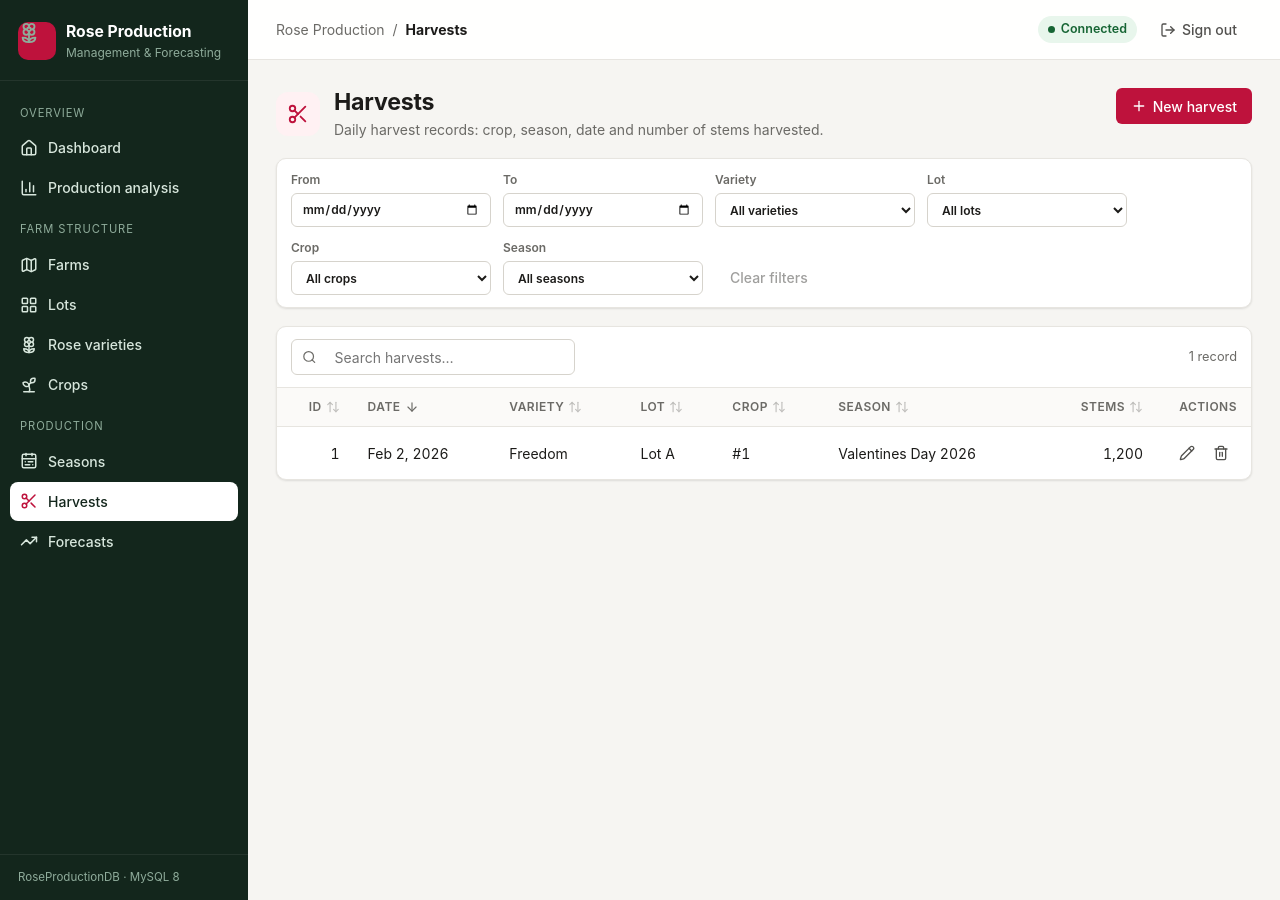
Test case: harvest consistency rules (final audit) › shows the duplicate-day conflict returned by the API (409)
Expected: the text "Valentines Day 2026" is shown, [824,426,1040,479]
Click the button "New harvest" at (1184, 106), box [1116,88,1252,124]
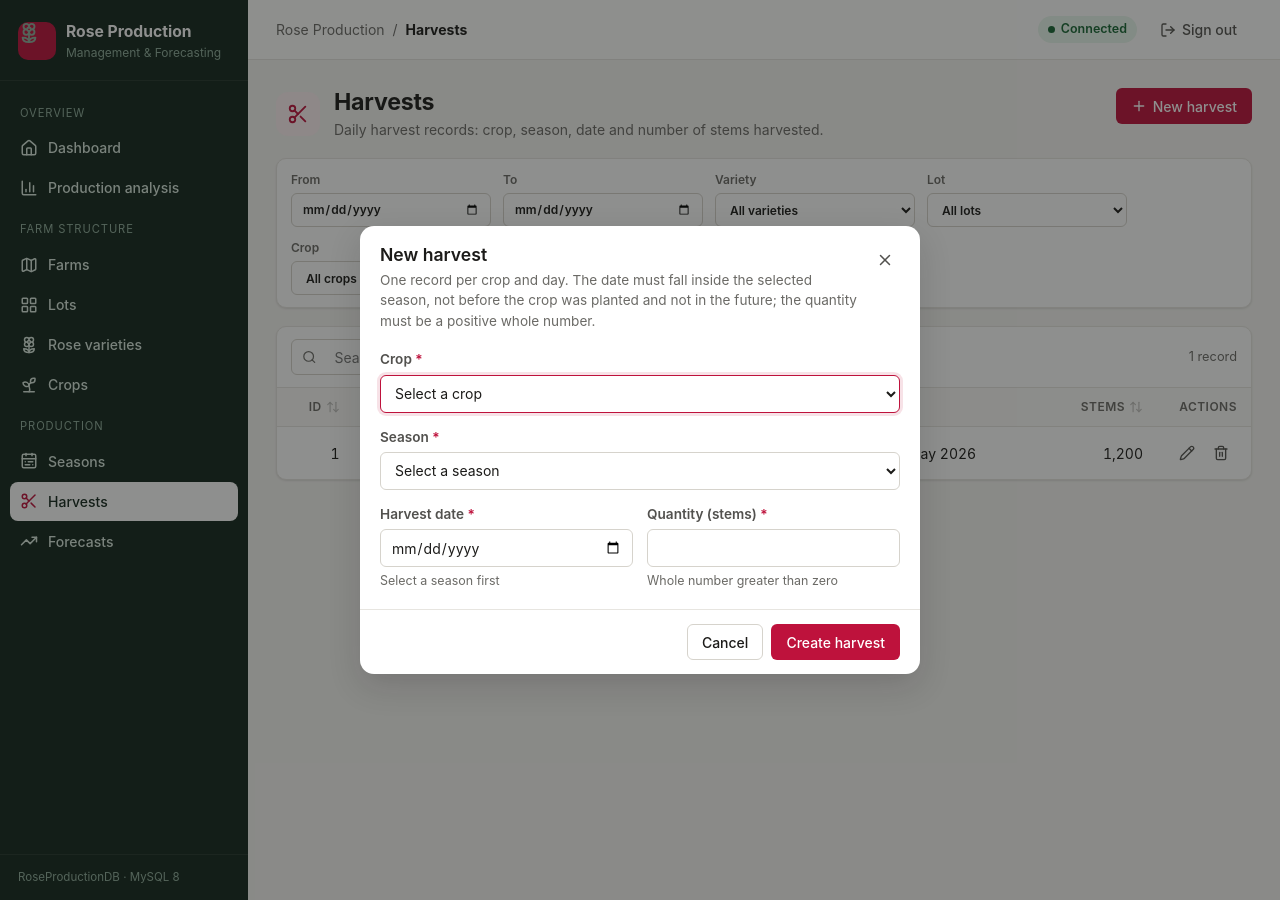
Select "#1 · Freedom · Lot A" in the dropdown labelled "Crop *" at (640, 394), box [380,374,900,412]
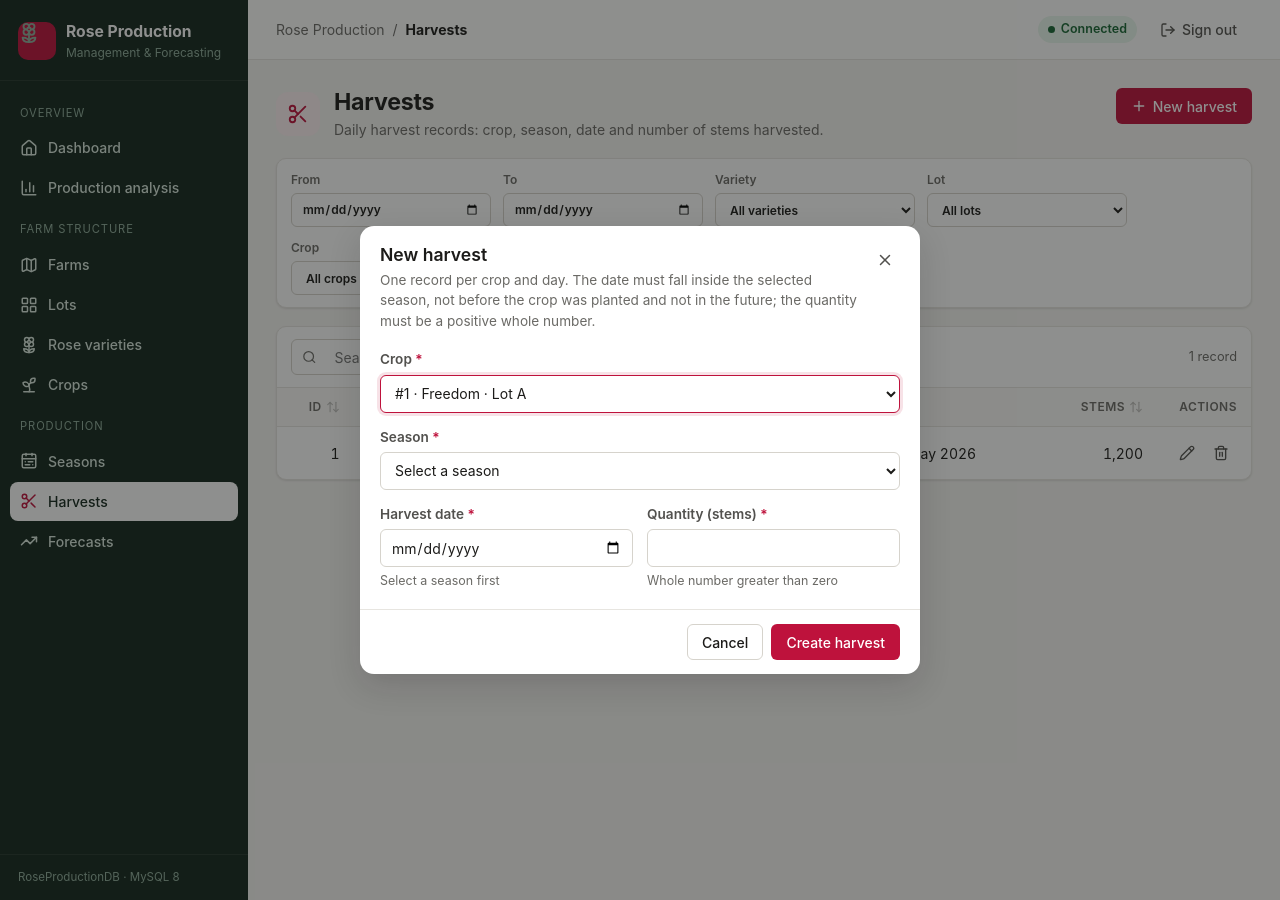
Select "Valentines Day 2026 (2026-02-01 → 2026-02-14)" in the dropdown labelled "Season *" at (640, 471), box [380,452,900,490]
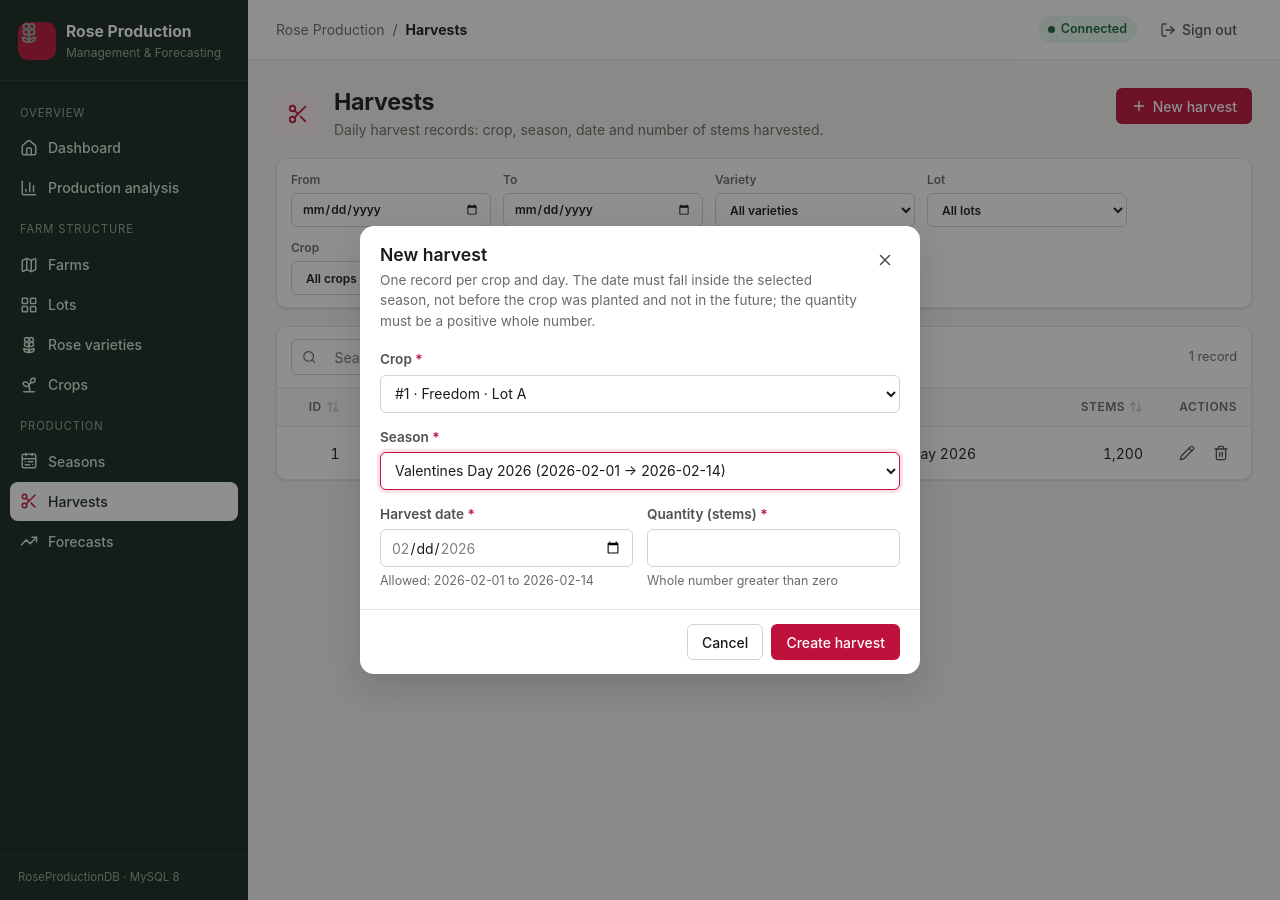
Type "2026-02-03" into the date field labelled "Harvest date *" at (506, 548), box [380,529,633,567]
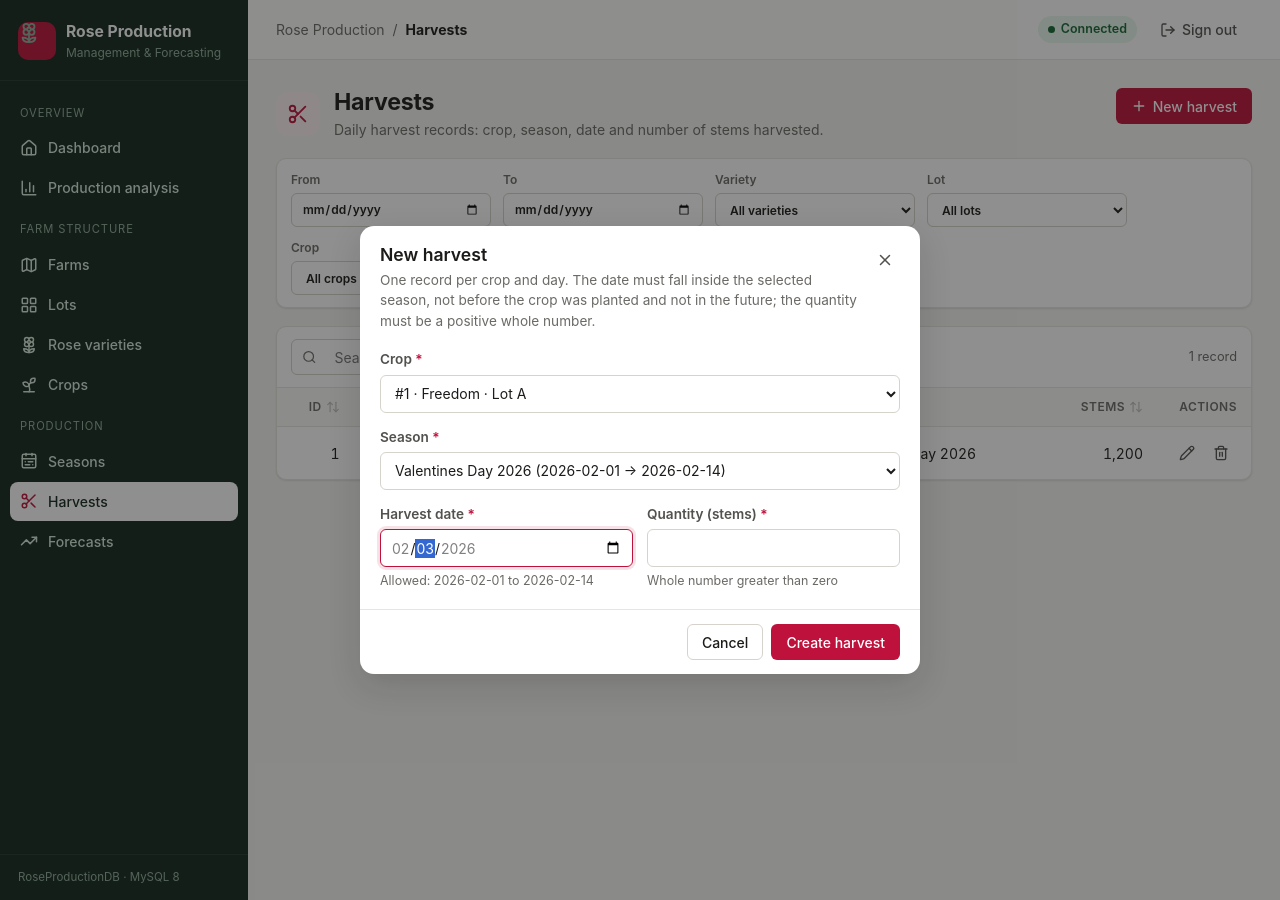
Type "10" into the number field labelled "Quantity (stems) *" at (774, 548), box [647,529,900,567]
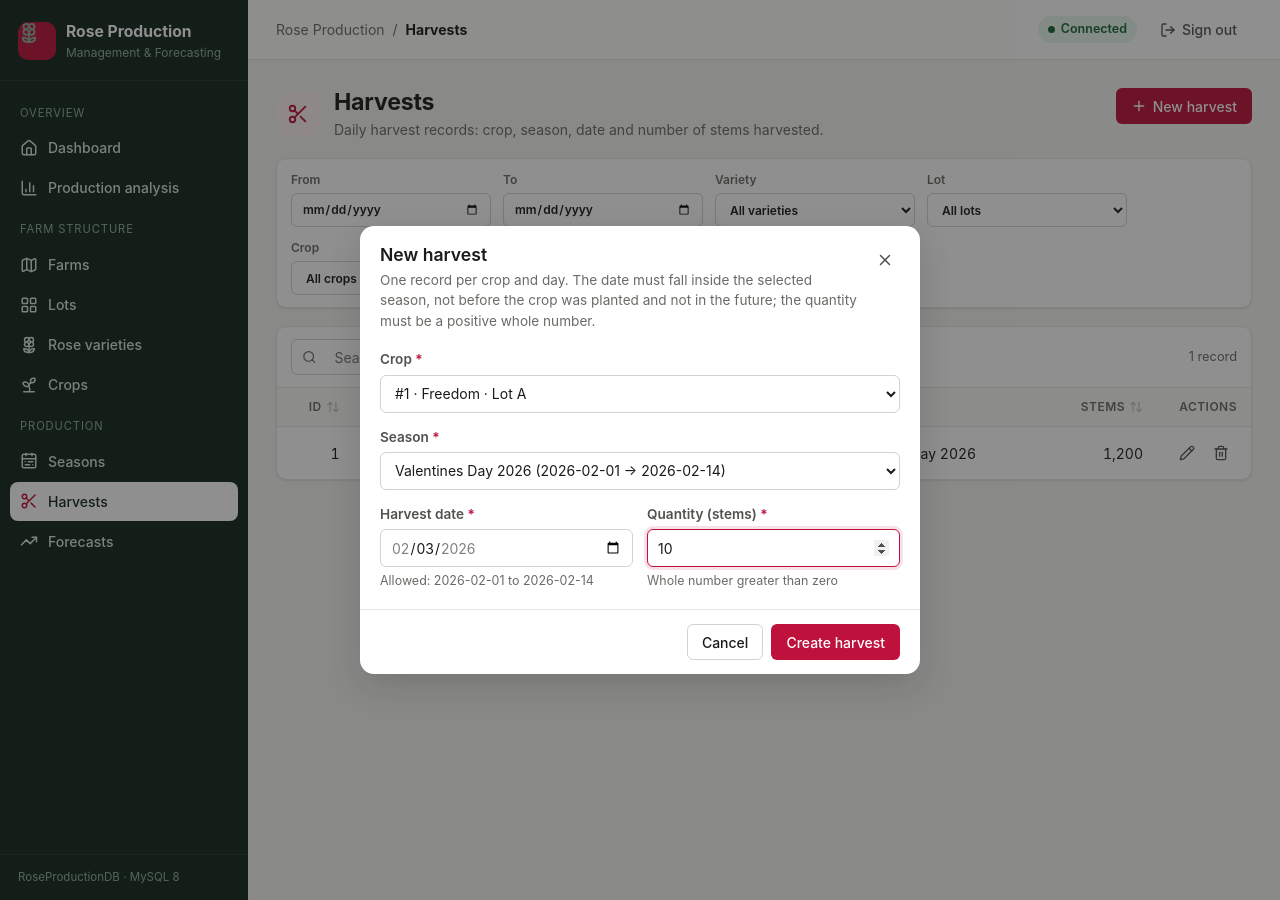
Click the button "Create harvest" at (836, 642), box [771,624,900,660]
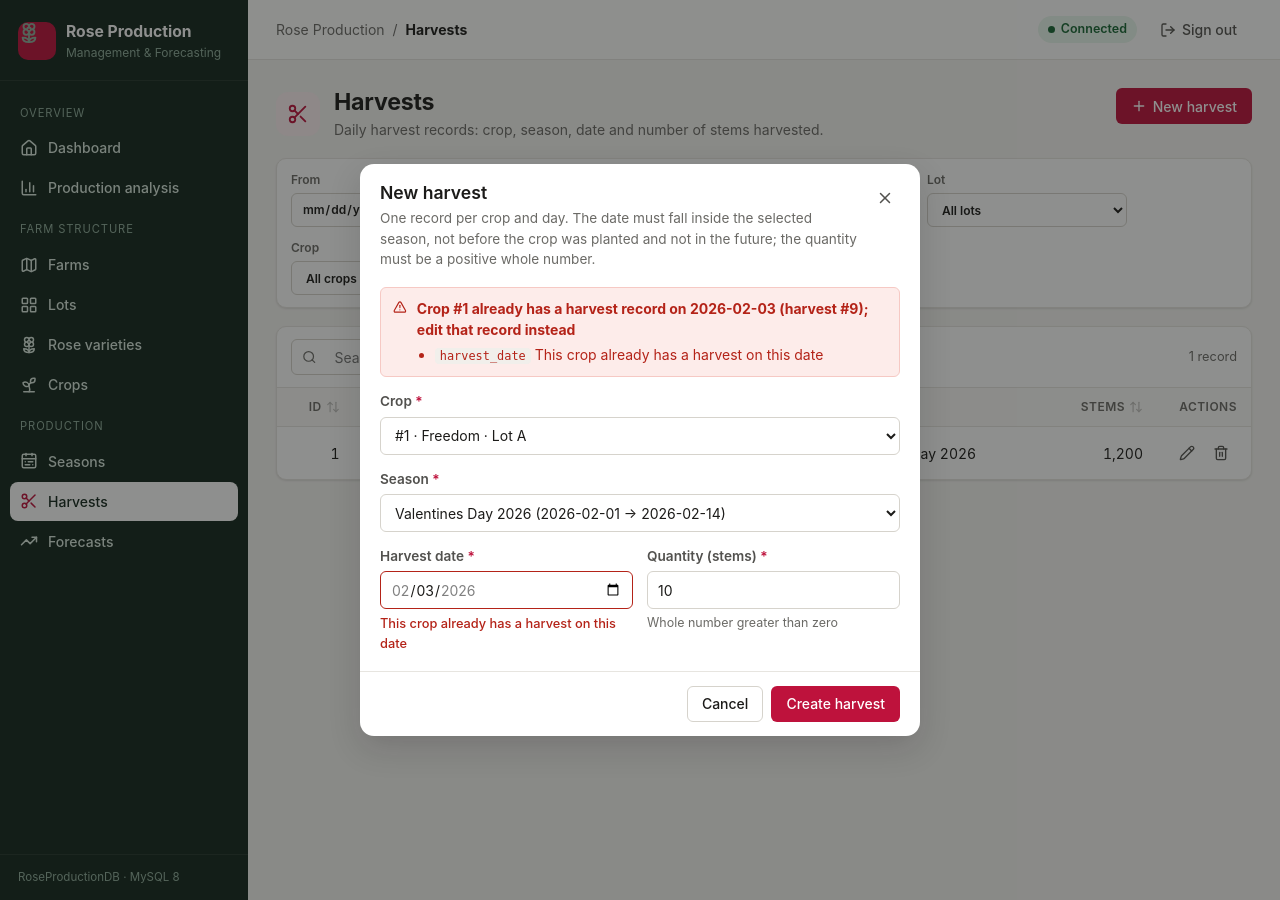
Now the text "already has a harvest record on 2026-02-03" is shown, box [417,300,868,338]
Now the list item "This crop already has a harvest on this date" is shown, box [535,346,823,363]
